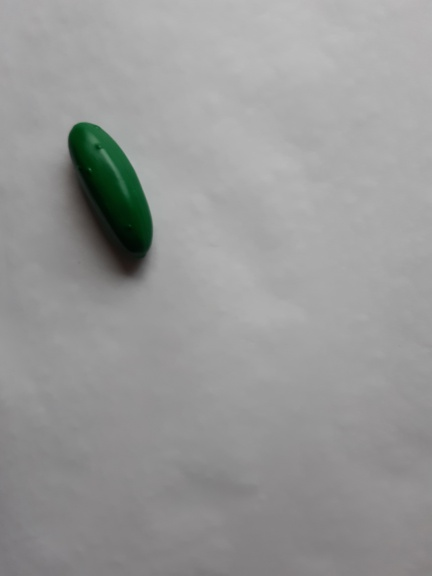cucumber: (58, 113, 161, 261)
